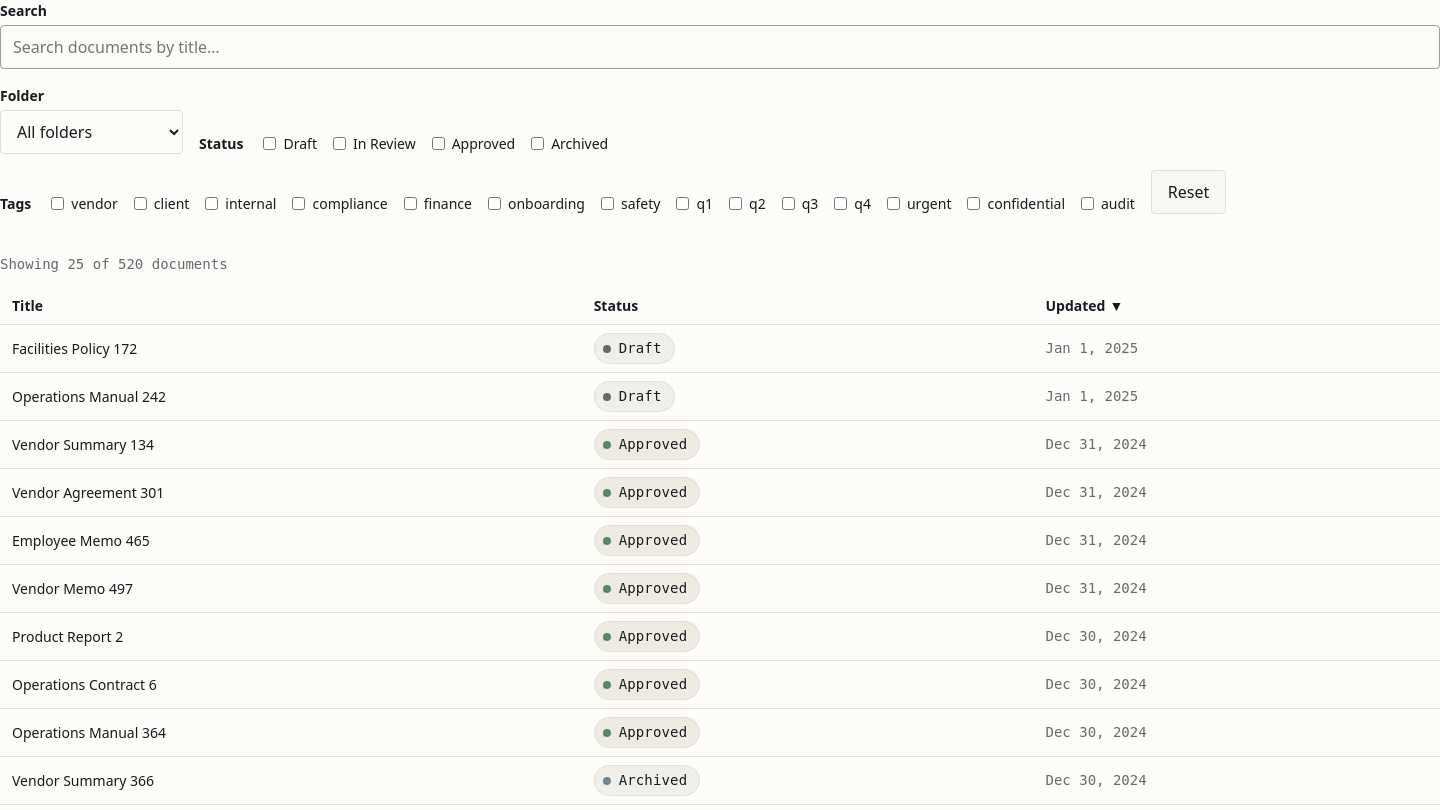
it: opening a document reveals the detail dialog
The width and height of the screenshot is (1440, 810).
Expected: the text "Showing 25 of 520 documents" is shown, 0,256 -> 228,272
Click the button "Facilities Policy 172": click(75, 348) 12,334 -> 137,363
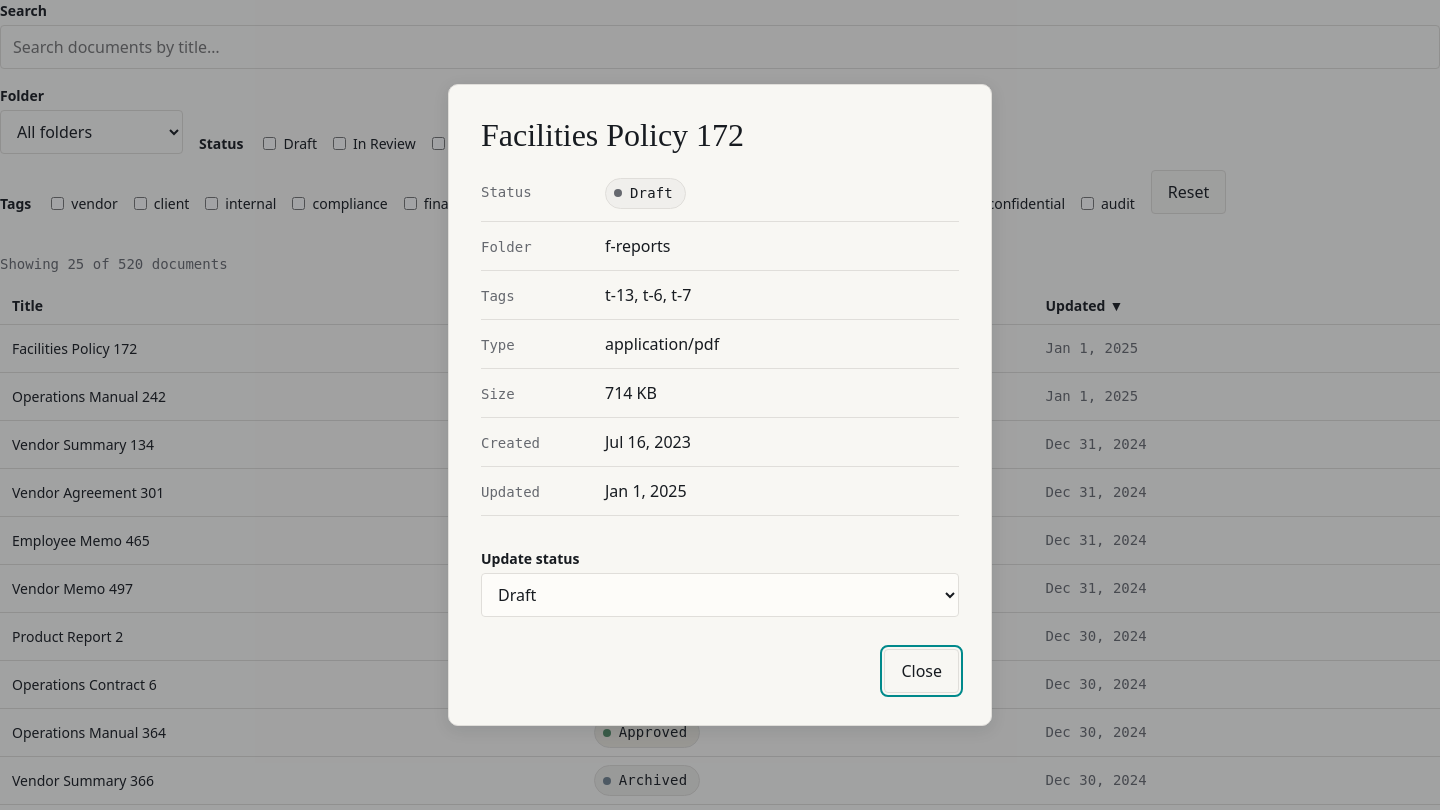
Now the dialog is shown, box 448,84 -> 992,726
